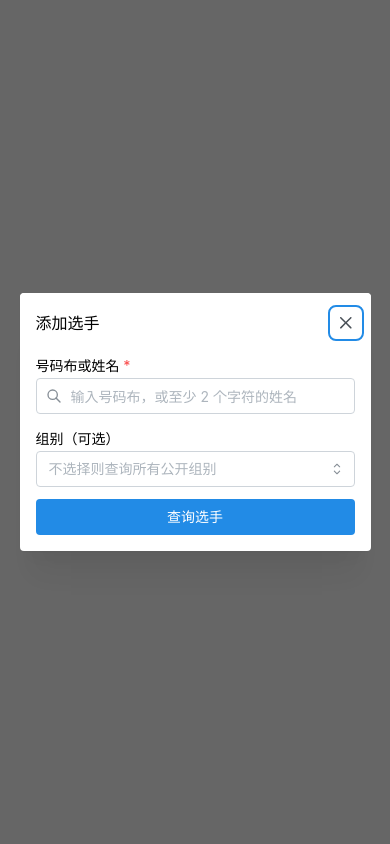
it: add runner modal regression (mocked requests only) › validates an empty query without sending a request
The width and height of the screenshot is (390, 844).
Click the button "查询选手" at (195, 517), box x1=36 y1=499 x2=354 y2=535
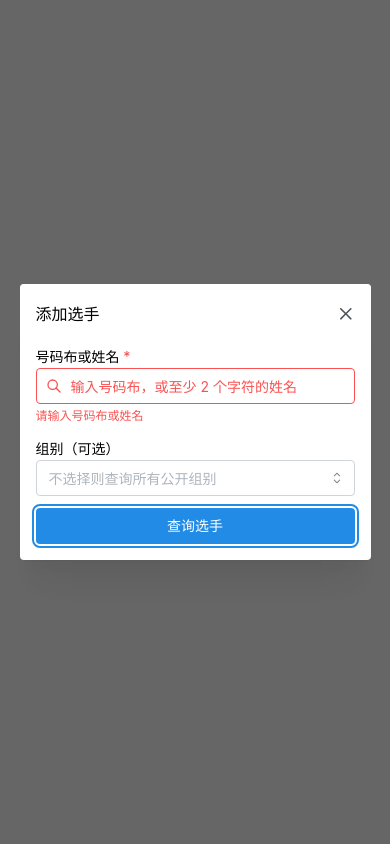
Result: the text "请输入号码布或姓名" is shown at x1=36 y1=408 x2=144 y2=423
